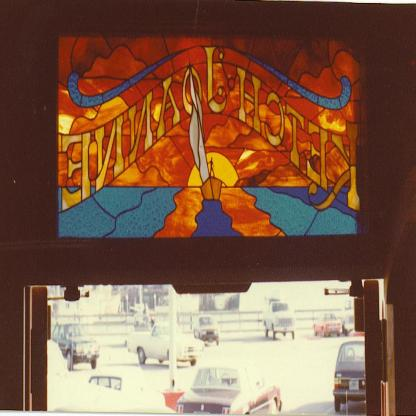Car: (176, 356, 281, 416), (334, 334, 377, 410), (131, 323, 200, 364), (51, 319, 101, 370), (265, 300, 296, 344), (193, 312, 222, 346), (88, 376, 135, 396), (313, 312, 342, 338), (341, 302, 357, 333), (133, 318, 154, 332)
